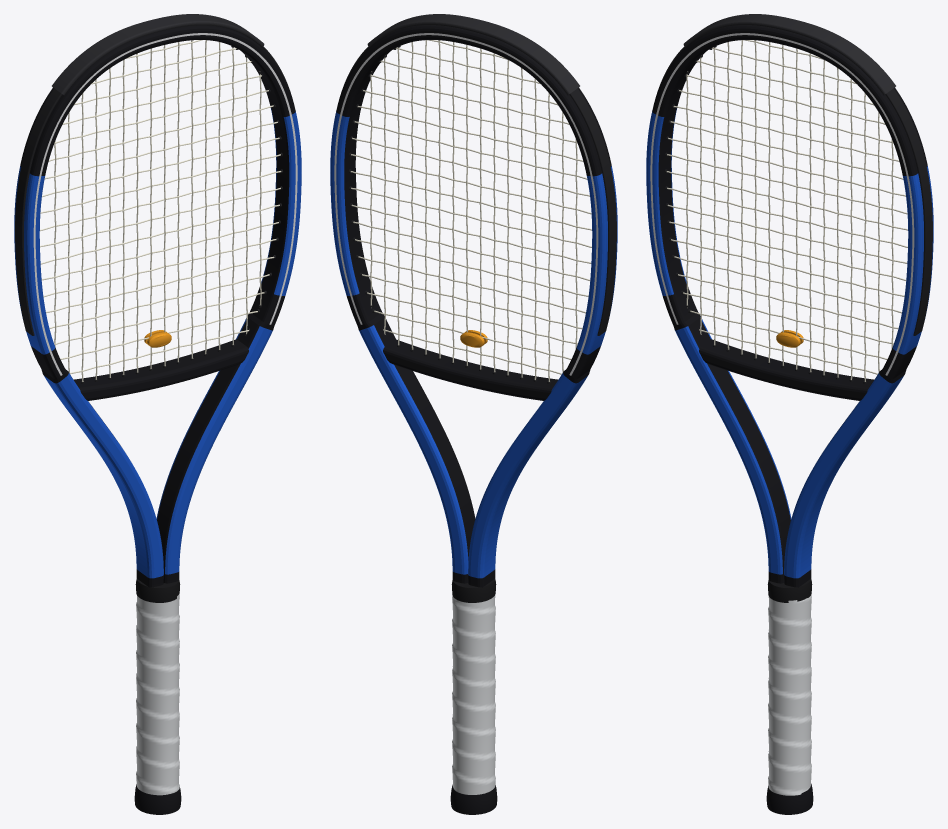
Rendered from TennisRacket.glb.
3 views of the same model, side by side, from view 1: azimuth 30°, elevation 25°; view 2: azimuth 150°, elevation 25°; view 3: azimuth 330°, elevation 25° (orthographic).
Visible parts, largest first — view 1: Frame, FrameAccent, StringsMains, Grip, StringsCrosses, Bumper, GrommetStrip, FrameStripe, ButtCap, GripTape; view 2: Frame, FrameAccent, StringsMains, Grip, StringsCrosses, Bumper, GrommetStrip, FrameStripe, ButtCap, GripTape; view 3: Frame, FrameAccent, StringsMains, Grip, StringsCrosses, Bumper, GrommetStrip, FrameStripe, ButtCap, GripTape.
Boxes of the visible parts, bbox=[...] form: Frame: bbox=[20, 25, 295, 587]; FrameAccent: bbox=[14, 108, 301, 578]; StringsMains: bbox=[54, 40, 261, 381]; Grip: bbox=[136, 593, 179, 795]; StringsCrosses: bbox=[40, 40, 281, 374]; Bumper: bbox=[52, 14, 264, 95]; GrommetStrip: bbox=[15, 46, 293, 335]; FrameStripe: bbox=[33, 33, 297, 375]; ButtCap: bbox=[134, 784, 181, 814]; GripTape: bbox=[135, 578, 180, 602]; Frame: bbox=[336, 25, 611, 587]; FrameAccent: bbox=[330, 111, 617, 578]; StringsMains: bbox=[370, 40, 577, 381]; Grip: bbox=[452, 595, 495, 794]; StringsCrosses: bbox=[350, 40, 591, 374]; Bumper: bbox=[367, 14, 579, 95]; GrommetStrip: bbox=[338, 46, 616, 335]; FrameStripe: bbox=[334, 33, 598, 375]; ButtCap: bbox=[450, 784, 497, 814]; GripTape: bbox=[451, 578, 496, 602]; Frame: bbox=[652, 25, 927, 587]; FrameAccent: bbox=[646, 108, 933, 578]; StringsMains: bbox=[686, 40, 893, 381]; Grip: bbox=[768, 595, 811, 795]; StringsCrosses: bbox=[666, 40, 907, 374]; Bumper: bbox=[683, 14, 895, 95]; GrommetStrip: bbox=[654, 46, 932, 335]; FrameStripe: bbox=[650, 33, 914, 375]; ButtCap: bbox=[766, 783, 813, 814]; GripTape: bbox=[767, 578, 812, 602].
Size of the model in its own units: 1.13 by 3.03 by 0.1731.
